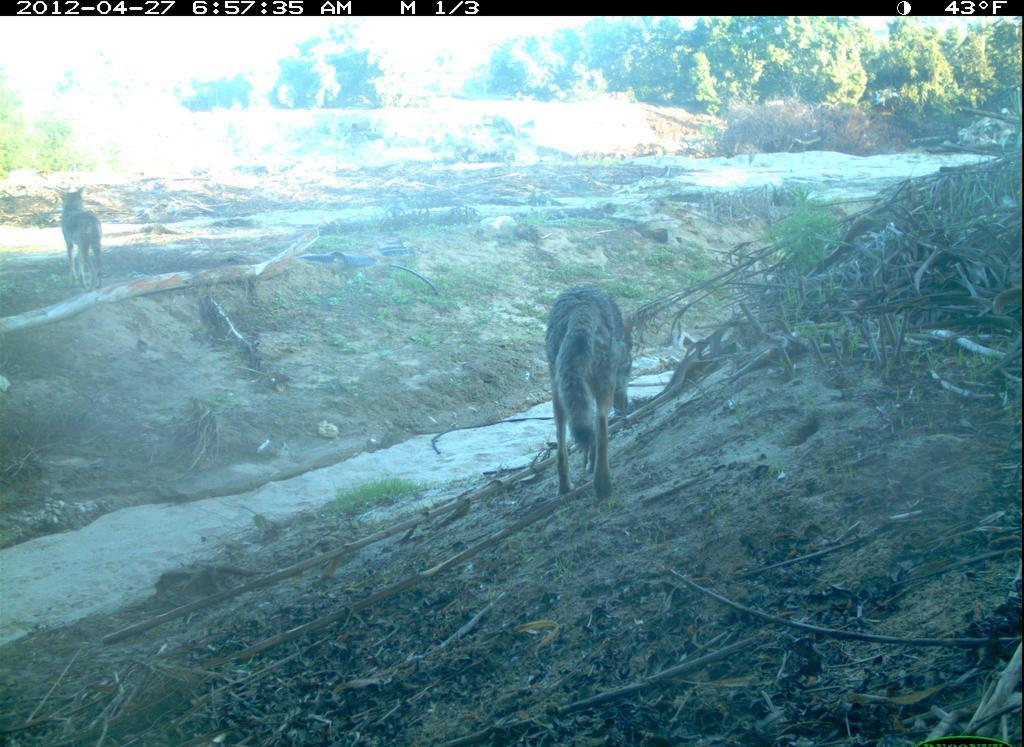coyote: (532, 282, 684, 530), (47, 173, 127, 289)
